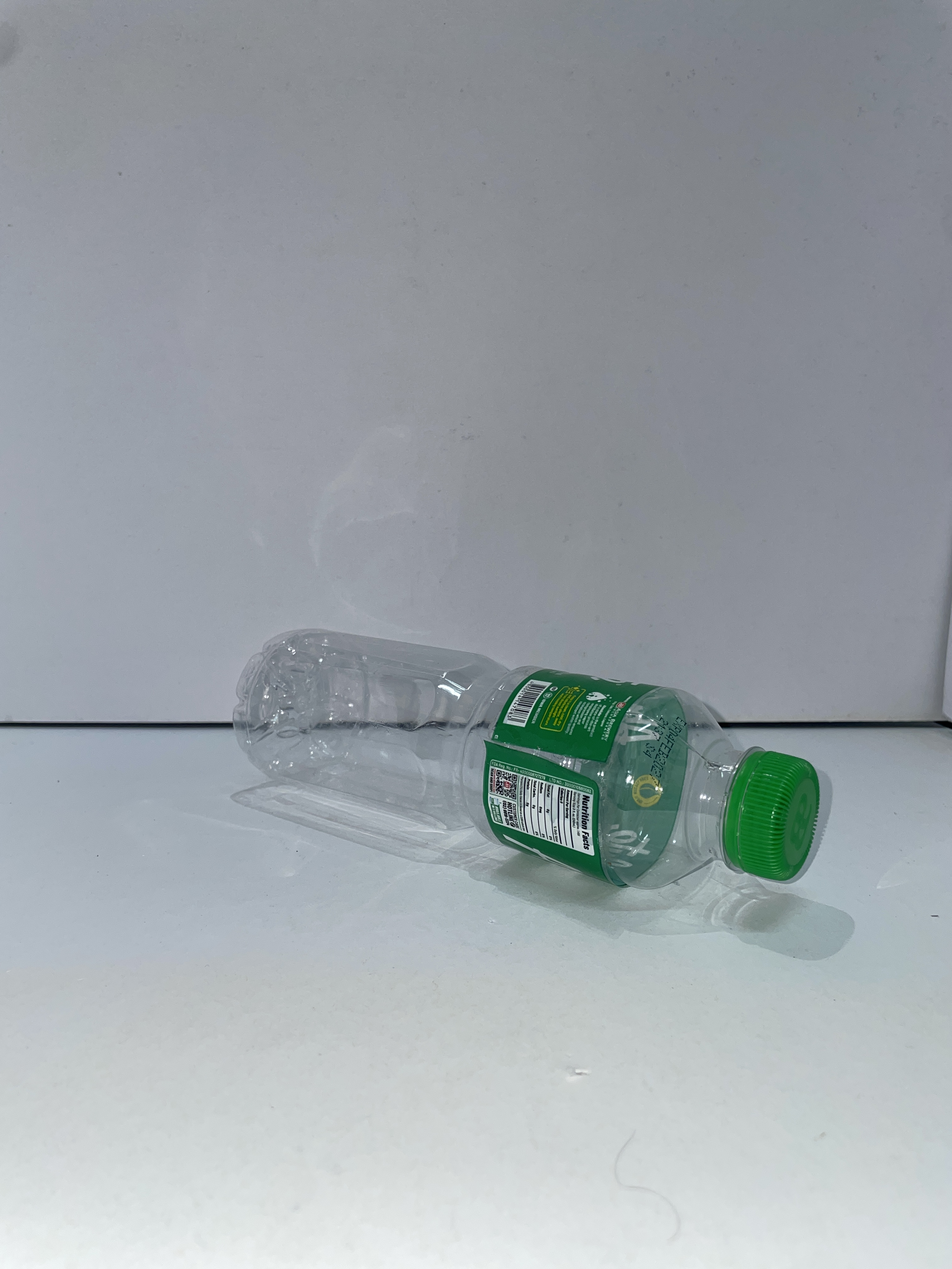Absolute 350ml: (234, 630, 820, 887)
